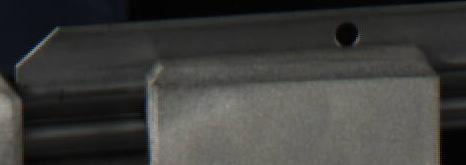cut: (13, 21, 140, 157)
holes: (334, 18, 361, 49)
